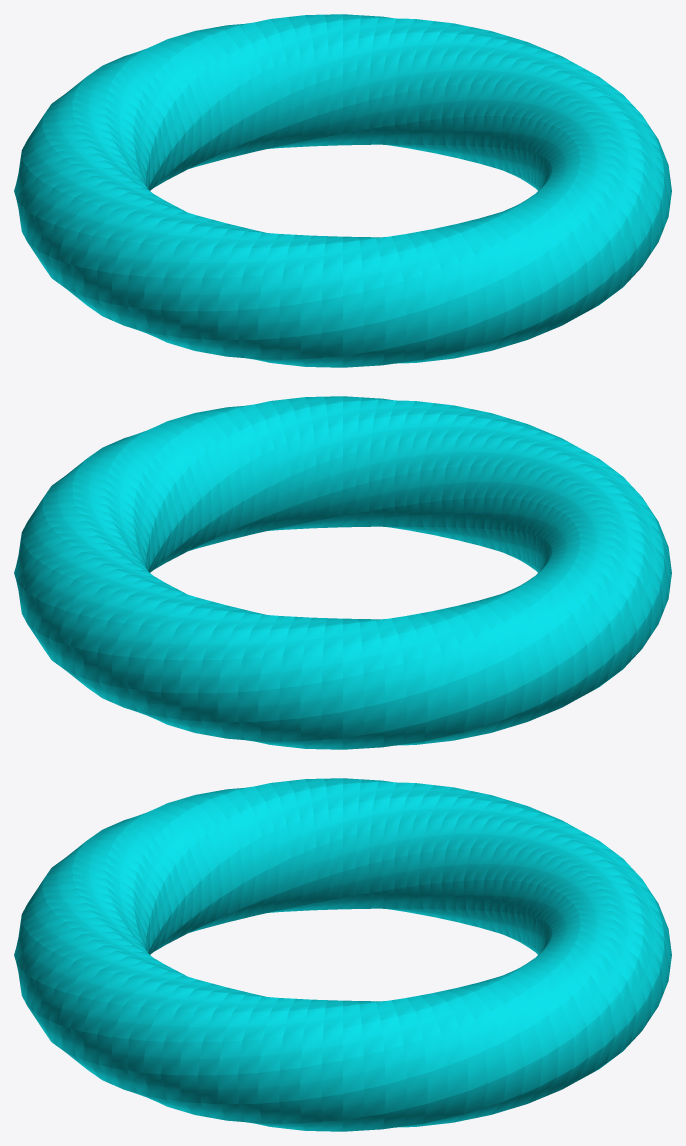
Rendered from twistedtorus.glb.
3 renders of one model, top to bottom at view 1: azimuth 30°, elevation 25°; view 2: azimuth 150°, elevation 25°; view 3: azimuth 270°, elevation 25°, orthographic.
Parts seen in each view (by area): view 1: TwistedTorus; view 2: TwistedTorus; view 3: TwistedTorus.
Part boxes in pixels (x1=…): TwistedTorus: x1=14, y1=14, x2=671, y2=367; TwistedTorus: x1=14, y1=396, x2=671, y2=749; TwistedTorus: x1=14, y1=778, x2=671, y2=1131.
Bounding box in the file's own units: 2.5 × 0.5 × 2.5.
